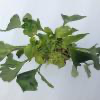Bell_pepper leaf spot: (0, 60, 24, 84), (19, 69, 38, 94), (50, 51, 68, 70), (21, 17, 36, 38), (55, 25, 79, 38), (24, 43, 38, 63), (59, 14, 89, 23), (44, 36, 55, 56), (37, 51, 48, 65), (37, 48, 49, 55)
